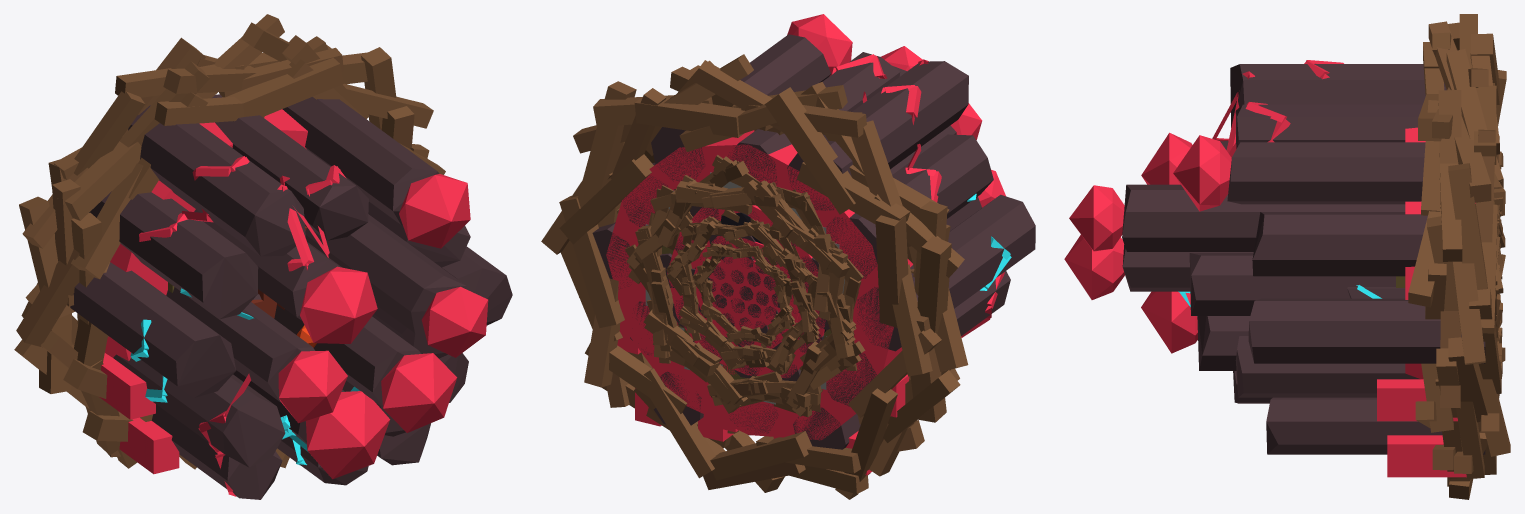
The model's file is Geodas_Zona4.fbx.
3 renders of one model, left to right at view 1: azimuth 30°, elevation 25°; view 2: azimuth 150°, elevation 25°; view 3: azimuth 270°, elevation 25°, orthographic. The views are drawn at different scales.
Visible parts, largest first — view 1: Roca.003, Base.003, Cristales.003, Grietas.003, Grietas2.003; view 2: Base.003, Roca.003, Cristales.003, Base.012, Base.006, Base.002, Base.015, Base.009, Cristales, Cristales.002, Base.001, Base.008 (+12 smaller); view 3: Roca.003, Base.003, Cristales.003, Grietas.003, Roca.002, Base.012.
Boxes of the visible parts, bbox=[...] form: Roca.003: bbox=[70, 94, 512, 499]; Base.003: bbox=[14, 14, 445, 469]; Cristales.003: bbox=[99, 109, 488, 479]; Grietas.003: bbox=[139, 156, 346, 496]; Grietas2.003: bbox=[130, 288, 359, 465]; Base.003: bbox=[541, 54, 968, 499]; Roca.003: bbox=[592, 34, 1035, 449]; Cristales.003: bbox=[606, 14, 1005, 475]; Base.012: bbox=[625, 160, 858, 416]; Base.006: bbox=[626, 161, 854, 410]; Base.002: bbox=[629, 156, 863, 411]; Base.015: bbox=[628, 155, 861, 407]; Base.009: bbox=[628, 165, 865, 417]; Cristales: bbox=[710, 257, 778, 328]; Cristales.002: bbox=[667, 205, 825, 378]; Base.001: bbox=[666, 210, 819, 368]; Base.008: bbox=[668, 216, 819, 374]; Roca.003: bbox=[1122, 64, 1485, 454]; Base.003: bbox=[1408, 14, 1510, 499]; Cristales.003: bbox=[1064, 127, 1475, 477]; Grietas.003: bbox=[1212, 60, 1343, 157]; Roca.002: bbox=[1347, 287, 1405, 298]; Base.012: bbox=[1493, 135, 1505, 361].
Size of the model in its own units: 4.42 by 4.46 by 4.12.
